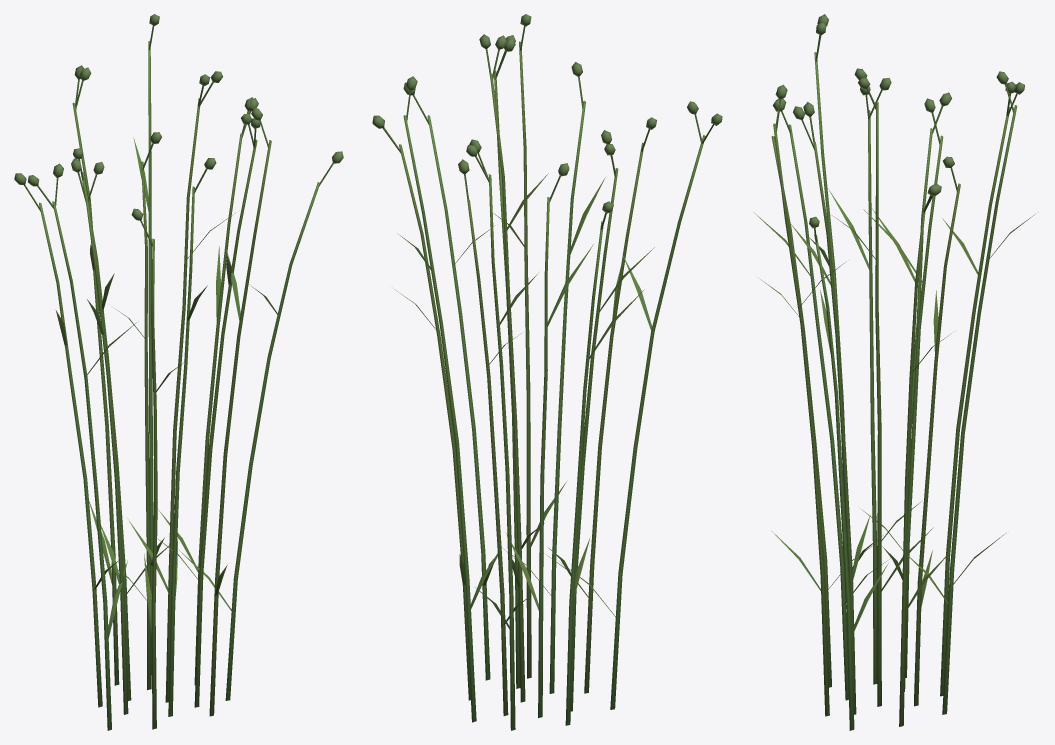
File: crop_fiber_s2.glb
3 renders of one model, left to right at view 1: azimuth 30°, elevation 25°; view 2: azimuth 150°, elevation 25°; view 3: azimuth 270°, elevation 25°, orthographic. The views are drawn at different scales.
Parts seen in each view (by area): view 1: Crop_Fiber_S2; view 2: Crop_Fiber_S2; view 3: Crop_Fiber_S2.
Boxes of the visible parts, left/top/right/bottom form: Crop_Fiber_S2: left=14, top=14, right=343, bottom=730; Crop_Fiber_S2: left=372, top=14, right=722, bottom=730; Crop_Fiber_S2: left=753, top=14, right=1034, bottom=730.
Bounding box in the file's own units: 0.407 × 0.793 × 0.3157.
